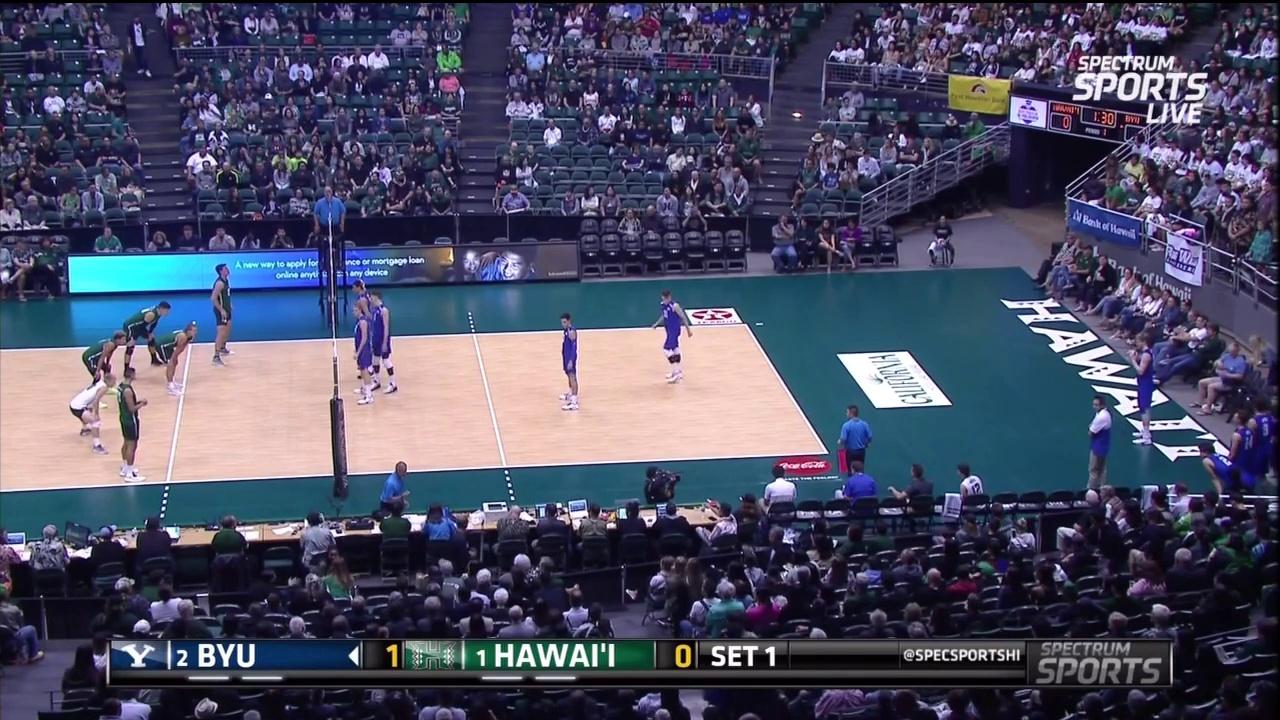player: (109, 366, 151, 491), (1123, 331, 1164, 448), (68, 373, 119, 460), (76, 331, 129, 407), (347, 304, 382, 413), (120, 301, 168, 376), (156, 318, 201, 397), (650, 291, 688, 383), (346, 272, 379, 372), (366, 289, 395, 393), (210, 265, 235, 364), (556, 311, 579, 410)
refree: (309, 182, 349, 269), (838, 404, 872, 491), (374, 455, 416, 509)
